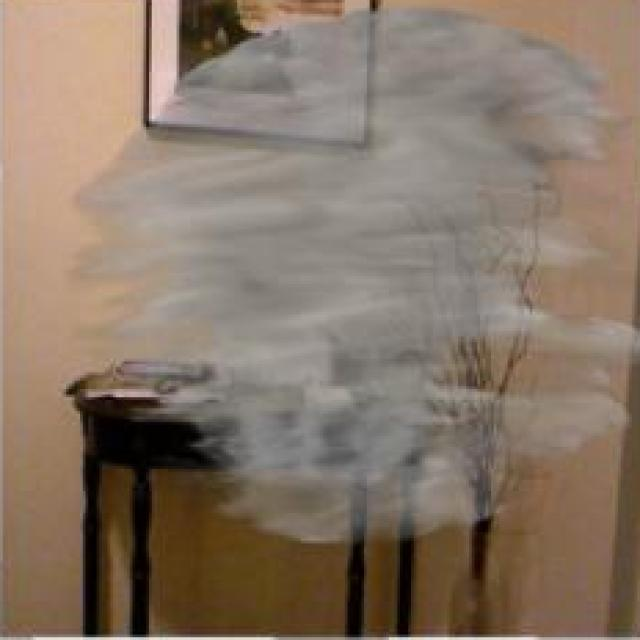fire: (66, 6, 640, 544)
